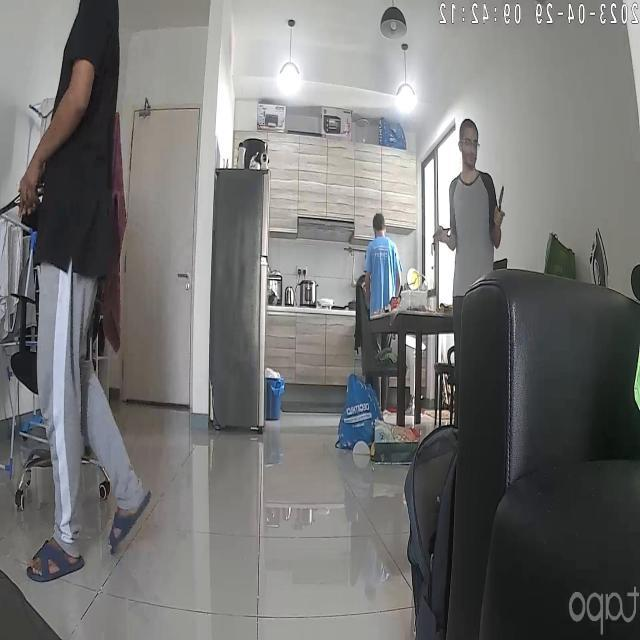Knife: (491, 186, 509, 217)
